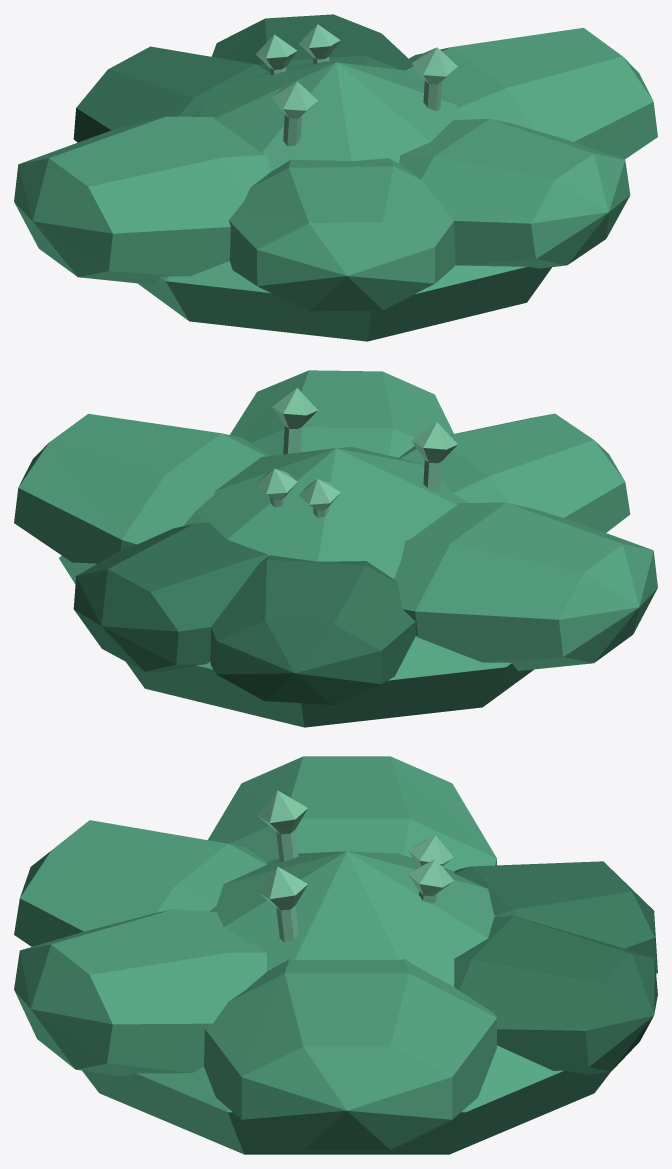
Rendered from icecapmoss.gltf.
3 views of the same model, one above another, from view 1: azimuth 30°, elevation 25°; view 2: azimuth 150°, elevation 25°; view 3: azimuth 270°, elevation 25° (orthographic). The views are drawn at different scales.
Visible parts, largest first — view 1: icecapmoss; view 2: icecapmoss; view 3: icecapmoss.
Part boxes in pixels (<box>): icecapmoss: <box>14,14,657,341</box>; icecapmoss: <box>14,370,657,727</box>; icecapmoss: <box>14,756,657,1154</box>.
Size of the model in its own units: 0.4057 by 0.1272 by 0.3352.
